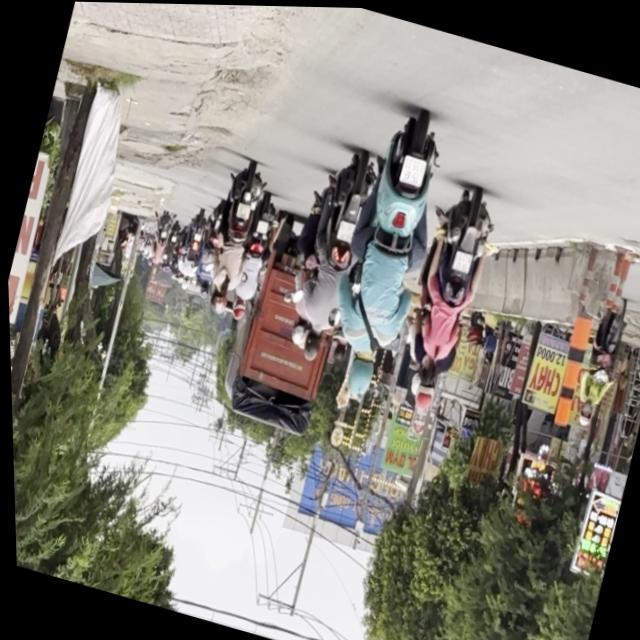helmet: (340, 349, 377, 400), (407, 372, 437, 412), (298, 326, 323, 363)
licenseplate: (306, 97, 466, 411), (382, 175, 508, 420), (266, 140, 382, 368)
motorcyclist: (414, 352, 438, 385)
nohelmet: (397, 152, 427, 186), (449, 249, 472, 274), (334, 218, 356, 243)
